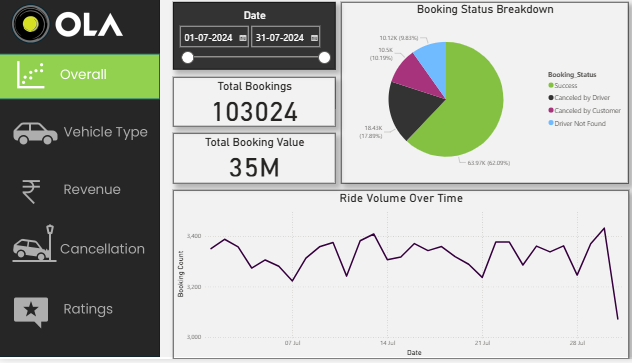

The page's visual inventory and layout, read from the dashboard file:
{"tool":"powerbi","page":{"name":"Overall","canvas":[1280,720],"ordinal":0},"visuals":[{"type":"actionButton","box":[0,233.3,322.6,70.6],"z":0},{"type":"actionButton","box":[0,233.3,322.6,70.6],"z":1000},{"type":"actionButton","box":[0,580.3,322.6,92.2],"z":2000},{"type":"actionButton","box":[0,347,322.6,70.6],"z":3000},{"type":"actionButton","box":[0,447.8,322.6,97.9],"z":4000},{"type":"actionButton","box":[0,110.9,322.6,89.3],"z":5000},{"type":"lineChart","title":"Ride Volume Over Time","fields":{"Category":["July.Date"],"Y":["CountNonNull(July.Booking_ID)"]},"box":[350,381.7,911.7,338.3],"z":6000},{"type":"pieChart","title":"Booking Status Breakdown","fields":{"Category":["July.Booking_Status"],"Y":["CountNonNull(July.Booking_Status)"]},"box":[686.7,6.7,575,363.3],"z":7000},{"type":"slicer","title":"Date","fields":{"Values":["July.Date"]},"box":[350,6.7,325,135],"z":8000},{"type":"card","title":"Total Bookings","fields":{"Values":["Count(July.Booking_ID)"]},"box":[350,155,325,99],"z":9000},{"type":"card","title":"Total Booking Value","fields":{"Values":["Sum(July.Booking_Value)"]},"box":[350,268.3,325,101],"z":10000}]}

Visuals, with their boxes in screenshot pixels (x1, y1, x2, y2), scaled from the page's 1280x720 canvas onto the 632x363 screenshot:
actionButton: [left=0, top=118, right=159, bottom=153]
actionButton: [left=0, top=118, right=159, bottom=153]
actionButton: [left=0, top=293, right=159, bottom=339]
actionButton: [left=0, top=175, right=159, bottom=211]
actionButton: [left=0, top=226, right=159, bottom=275]
actionButton: [left=0, top=56, right=159, bottom=101]
"Ride Volume Over Time" lineChart: [left=173, top=192, right=623, bottom=362]
"Booking Status Breakdown" pieChart: [left=339, top=3, right=623, bottom=187]
"Date" slicer: [left=173, top=3, right=333, bottom=71]
"Total Bookings" card: [left=173, top=78, right=333, bottom=128]
"Total Booking Value" card: [left=173, top=135, right=333, bottom=186]
